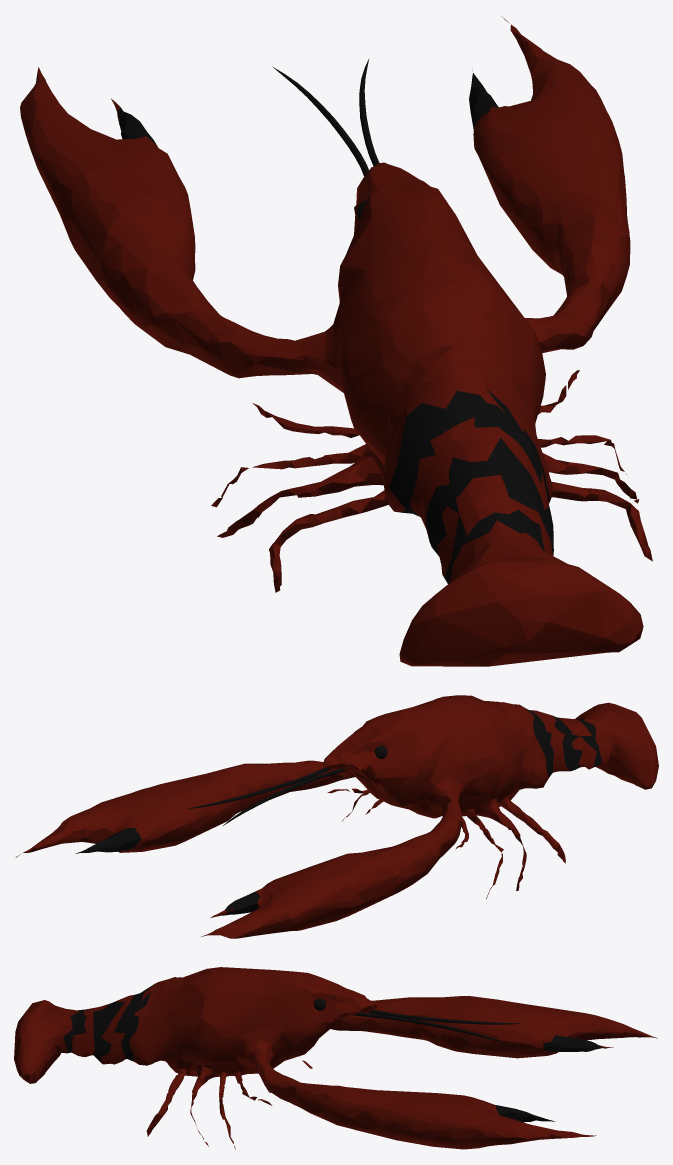
The model's file is Crayfish.obj.
3 renders of one model, top to bottom at view 1: azimuth 30°, elevation 25°; view 2: azimuth 150°, elevation 25°; view 3: azimuth 270°, elevation 25°, orthographic. The views are drawn at different scales.
Visible parts, largest first — view 1: crayfish_work1; view 2: crayfish_work1, PM3D_Cylinder3D, PM3D_Cylinder3D_1; view 3: crayfish_work1, PM3D_Cylinder3D, PM3D_Cylinder3D_1.
Part boxes in pixels (left/top/right/bottom): crayfish_work1: left=20, top=16, right=652, bottom=666; crayfish_work1: left=15, top=695, right=658, bottom=938; PM3D_Cylinder3D: left=186, top=767, right=331, bottom=809; PM3D_Cylinder3D_1: left=223, top=768, right=346, bottom=825; crayfish_work1: left=14, top=967, right=657, bottom=1149; PM3D_Cylinder3D: left=352, top=1012, right=505, bottom=1043; PM3D_Cylinder3D_1: left=368, top=1009, right=519, bottom=1024.
Size of the model in its own units: 51.07 by 21.67 by 90.35.
